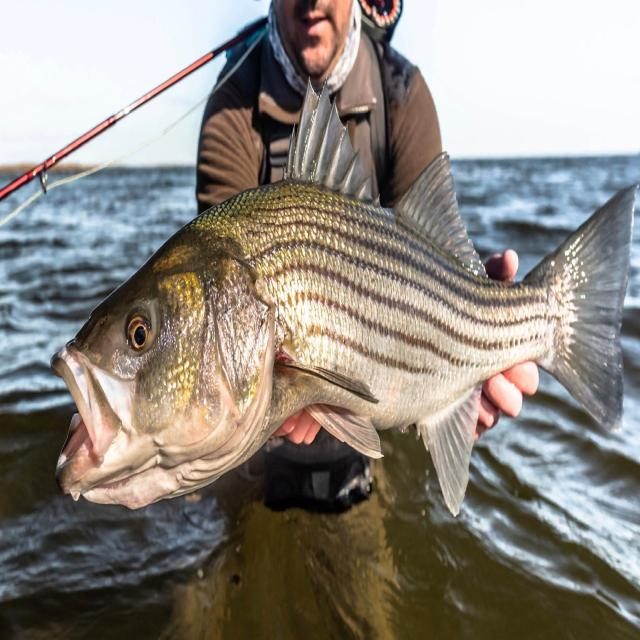Bass - Striped: (52, 87, 635, 514)
